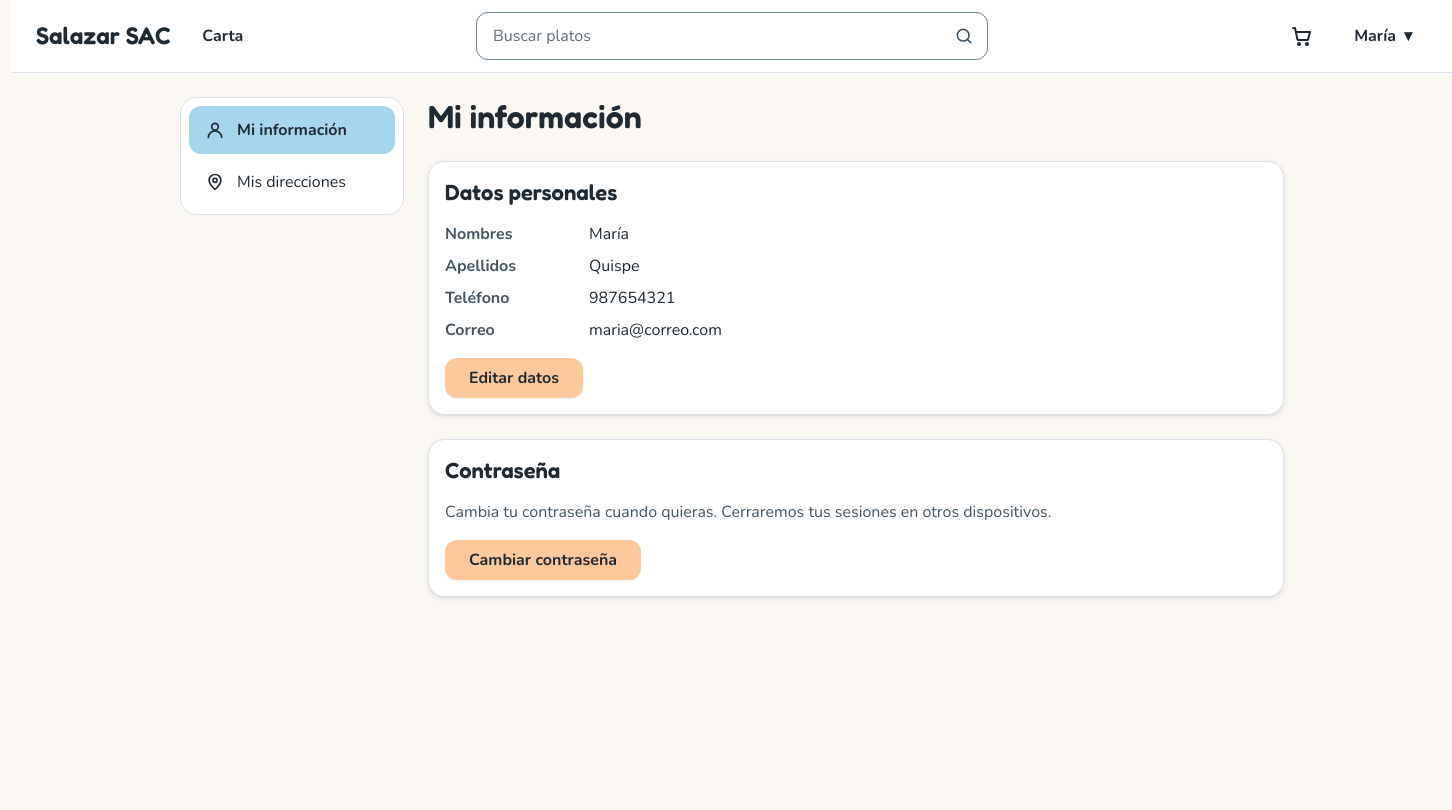
Perfil › cerrar sesión desde el header estando en el perfil termina en la tienda, no en el login
The image size is (1452, 810).
Click the button "María ▾": [1383, 36] box x1=1338 y1=12 x2=1428 y2=60
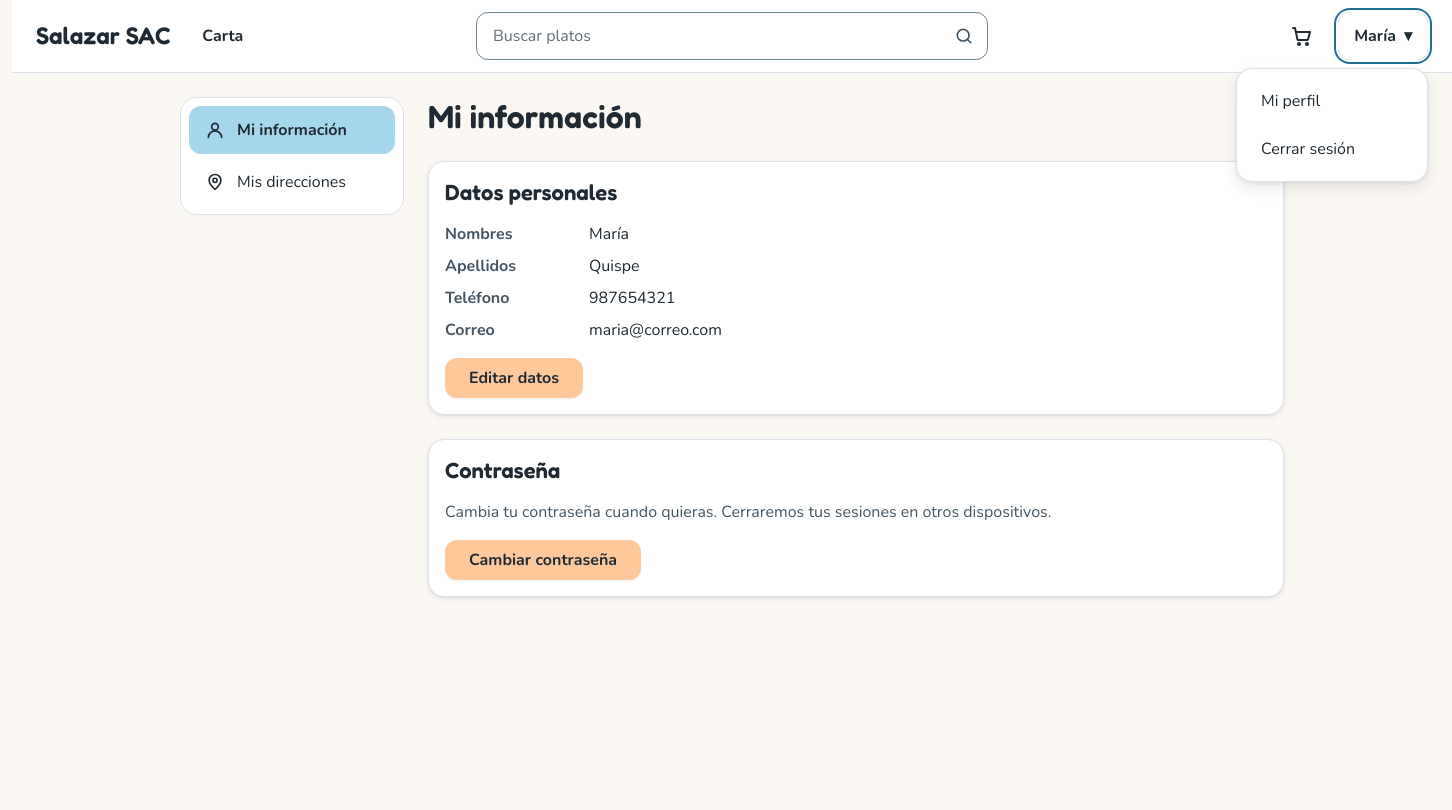
Click the menu item "Cerrar sesión": [1332, 149] box x1=1245 y1=125 x2=1419 y2=173
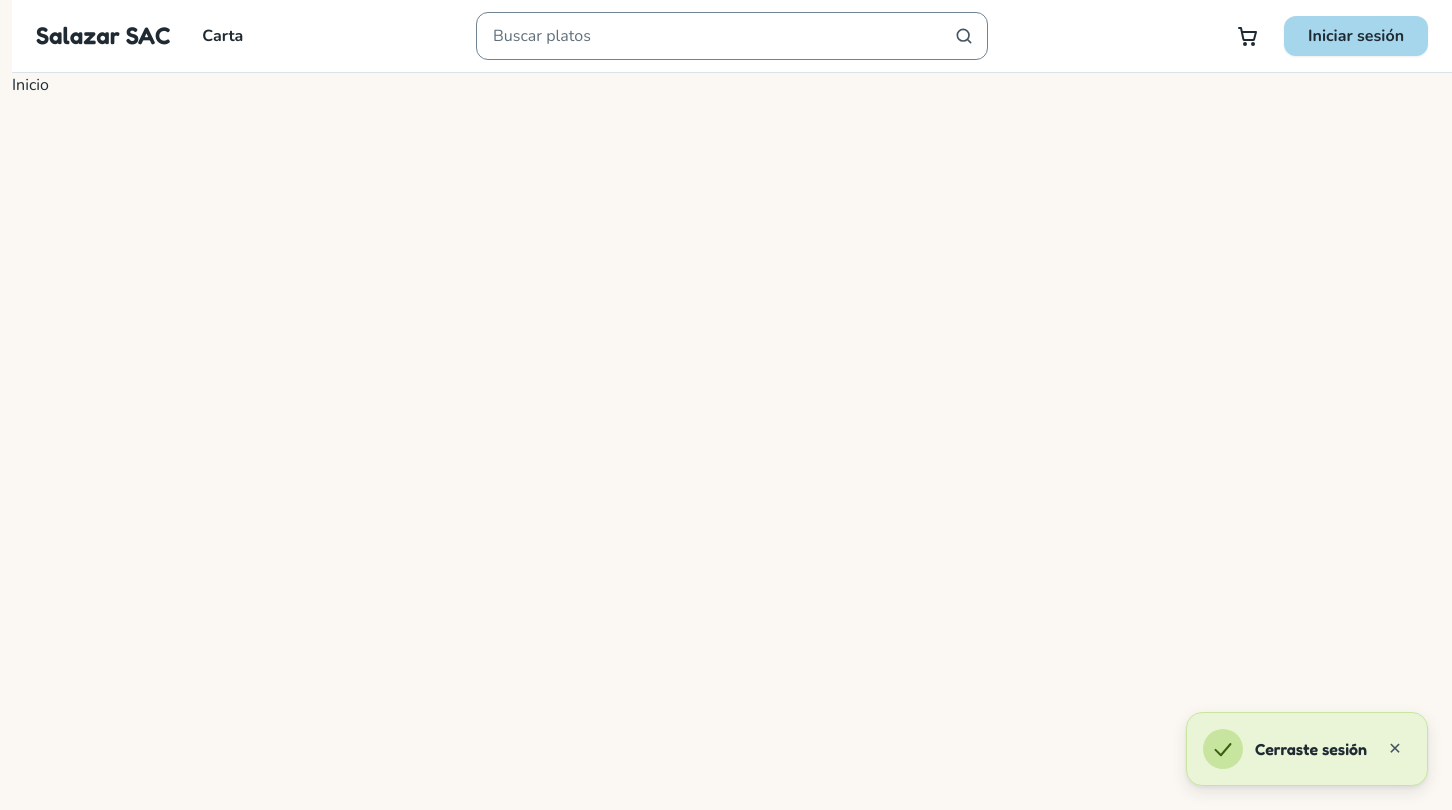
Expected: the text "Inicio" is shown, x1=12 y1=74 x2=49 y2=96
